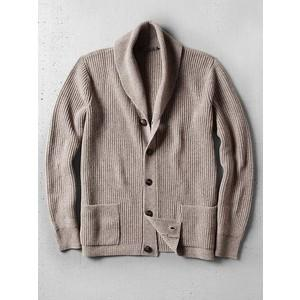S_cardigan sweater: (49, 42, 261, 272)
